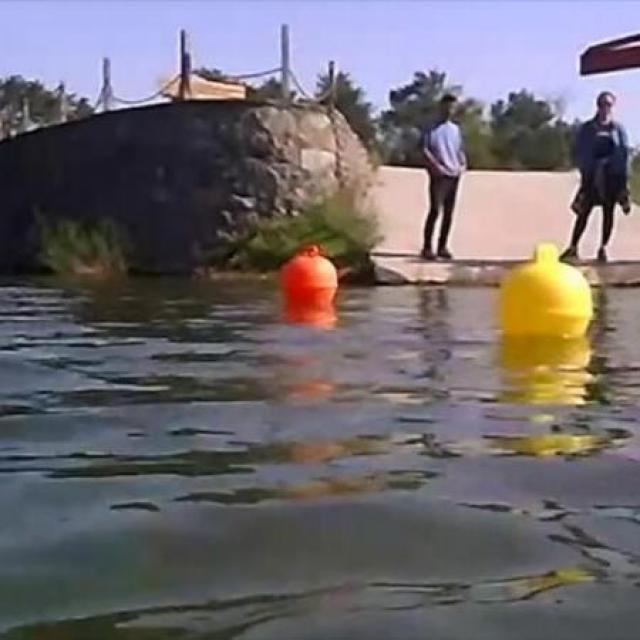buoy: (495, 243, 593, 339), (283, 240, 336, 314)
